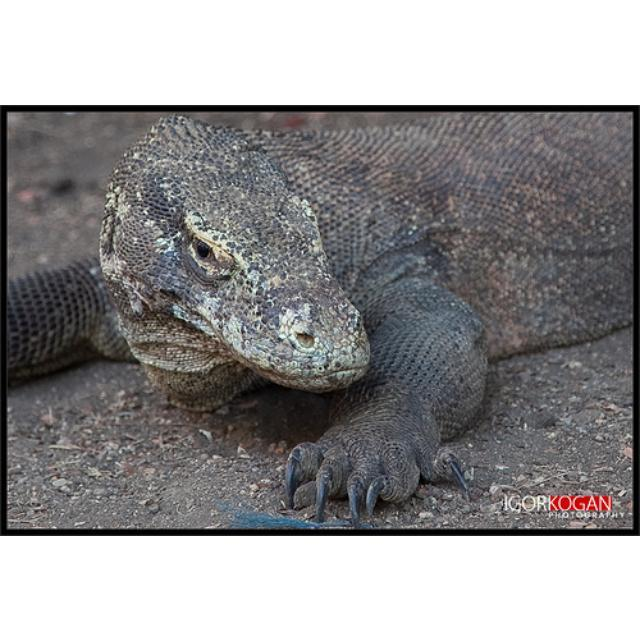KomodoDragon: (5, 112, 624, 521)
